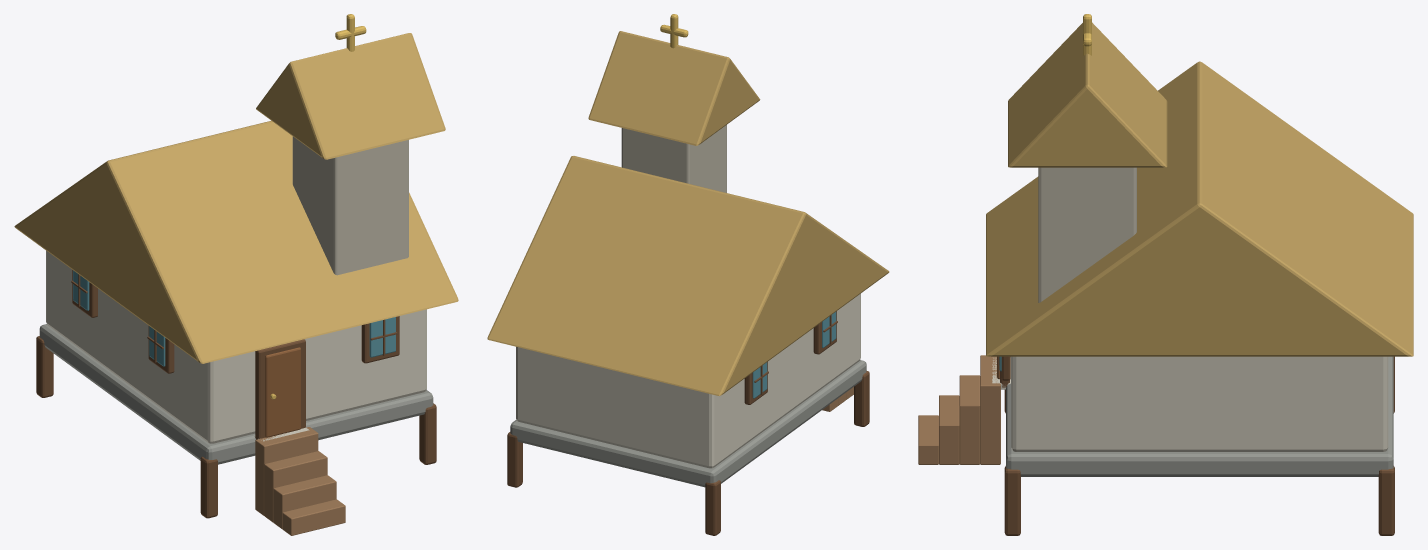
File: wetland-chapel-0.glb
3 views of the same model, side by side, from view 1: azimuth 30°, elevation 25°; view 2: azimuth 150°, elevation 25°; view 3: azimuth 270°, elevation 25° (orthographic). The views are drawn at different scales.
Visible parts, largest first — view 1: Golden thatch, Cut limestone, Warm civic stone, Foundation stone, Aged oak, Dark beams, Door oak, Blue glass, Warm brass; view 2: Golden thatch, Cut limestone, Foundation stone, Warm civic stone, Dark beams, Blue glass; view 3: Golden thatch, Cut limestone, Foundation stone, Warm civic stone, Aged oak, Dark beams.
Boxes of the visible parts, x1,y1,x2,y2 form: Golden thatch: (14, 33, 458, 363); Cut limestone: (46, 250, 426, 443); Warm civic stone: (292, 136, 408, 275); Foundation stone: (39, 324, 433, 464); Aged oak: (255, 427, 345, 535); Dark beams: (36, 270, 436, 518); Door oak: (265, 347, 300, 437); Blue glass: (73, 270, 395, 366); Warm brass: (270, 14, 366, 399); Golden thatch: (487, 31, 889, 395); Cut limestone: (516, 293, 860, 468); Foundation stone: (510, 360, 866, 487); Warm civic stone: (621, 125, 726, 192); Dark beams: (507, 311, 869, 535); Blue glass: (752, 312, 836, 398); Golden thatch: (986, 22, 1413, 356); Cut limestone: (992, 356, 1388, 451); Foundation stone: (1006, 356, 1393, 476); Warm civic stone: (1038, 167, 1136, 302); Aged oak: (918, 355, 1000, 464); Dark beams: (997, 356, 1394, 535).
Bounding box in the file's own units: 3.8 × 6.07 × 5.52.
